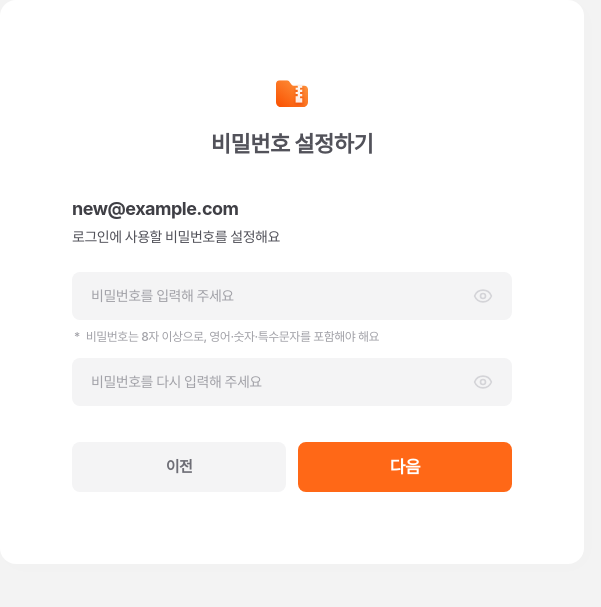
Test: SignupPasswordForm › shows the designed Password length error
The width and height of the screenshot is (601, 607).
Type "Pass1!" into the password field labelled "비밀번호" at (278, 296), box [91,285,465,307]
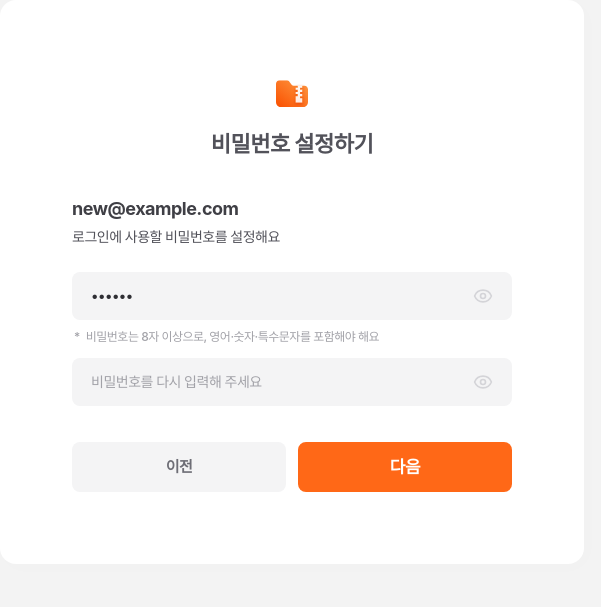
Press Tab
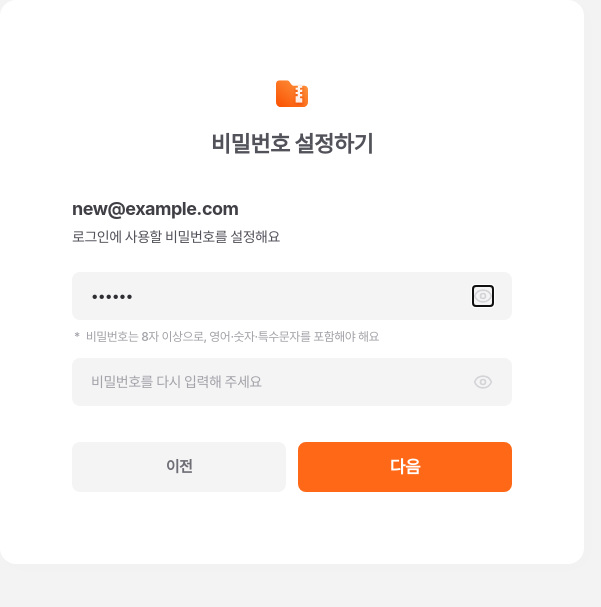
Click the button "다음" at (405, 467), box [298,442,512,492]
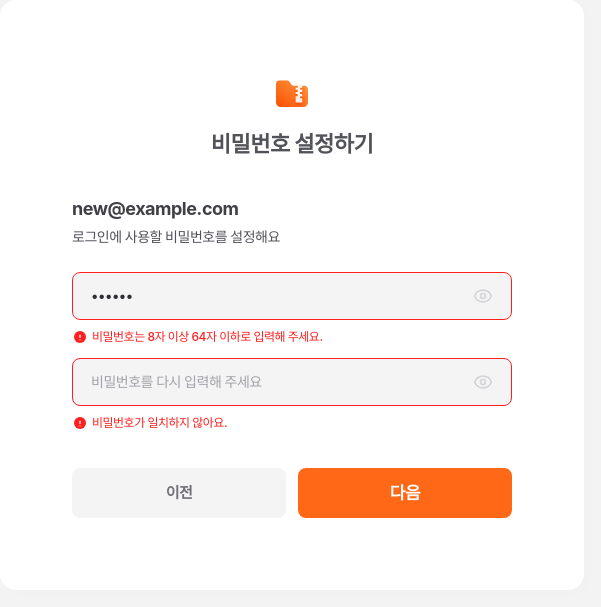
Expected: the text "비밀번호는 8자 이상 64자 이하로 입력해 주세요." is shown, [92,328,322,346]
